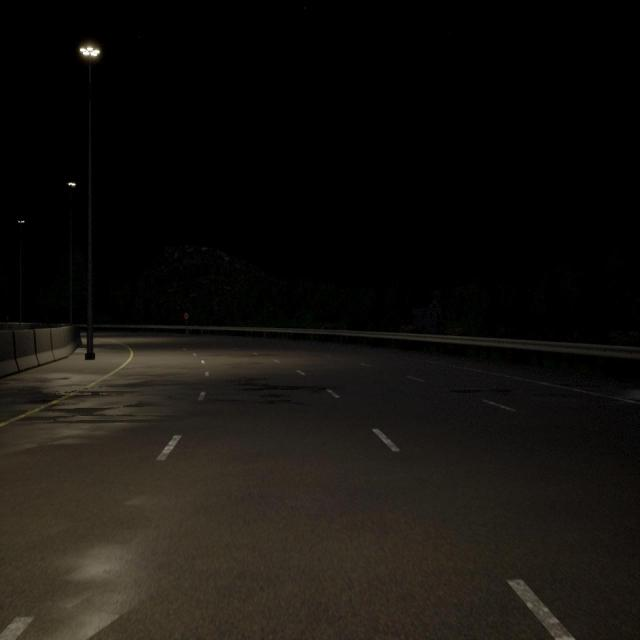Traffic_Signs: (184, 313, 188, 319)
